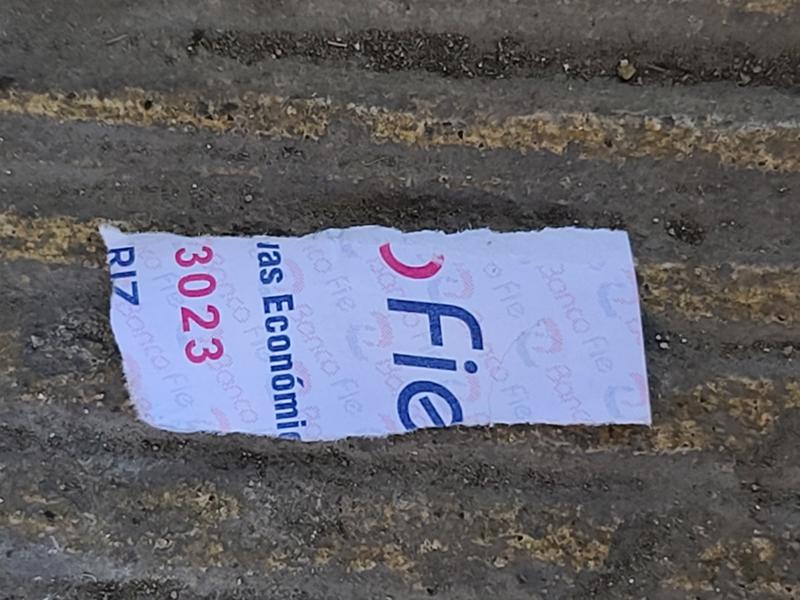papel: (99, 226, 653, 444)
